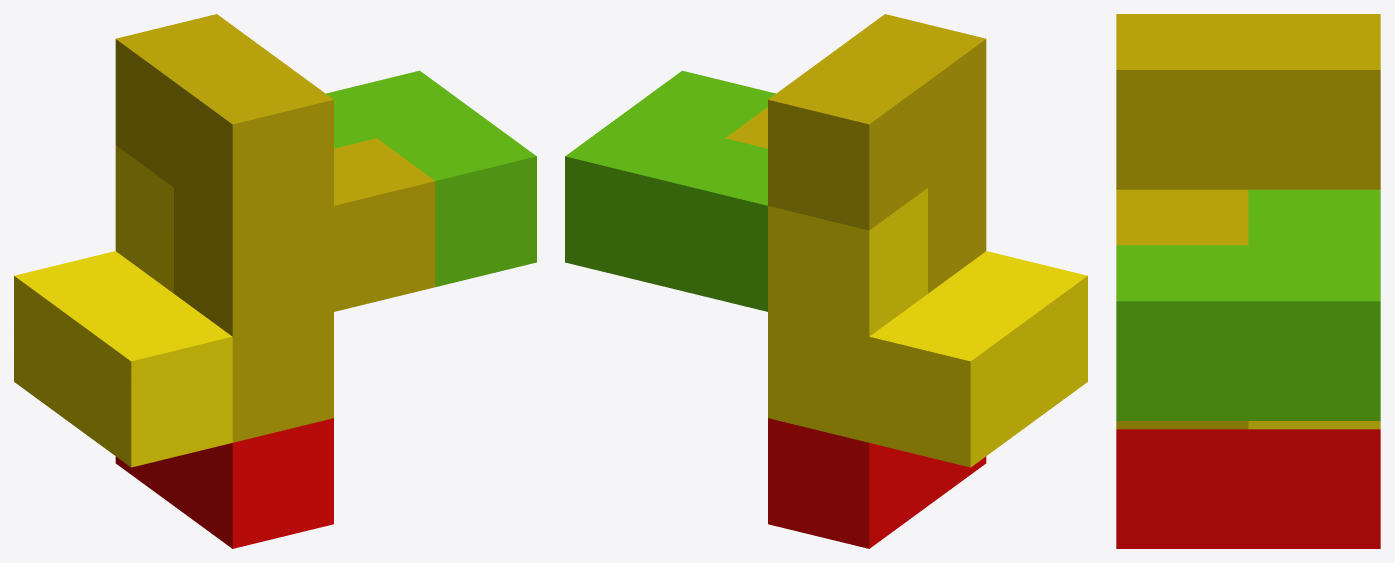
The picture shows the model from 3 angles, left to right: view 1: azimuth 30°, elevation 25°; view 2: azimuth 150°, elevation 25°; view 3: azimuth 270°, elevation 25°; orthographic projection. The views are drawn at different scales.
Visible parts, largest first — view 1: mergedBlocks(Clone); view 2: mergedBlocks(Clone); view 3: mergedBlocks(Clone).
Boxes of the visible parts, x1,y1,x2,y2 form: mergedBlocks(Clone): (14, 14, 536, 548); mergedBlocks(Clone): (565, 14, 1087, 548); mergedBlocks(Clone): (1116, 14, 1380, 548).
Size of the model in its own units: 4 by 4 by 2.
4 materials, 4 textured.
